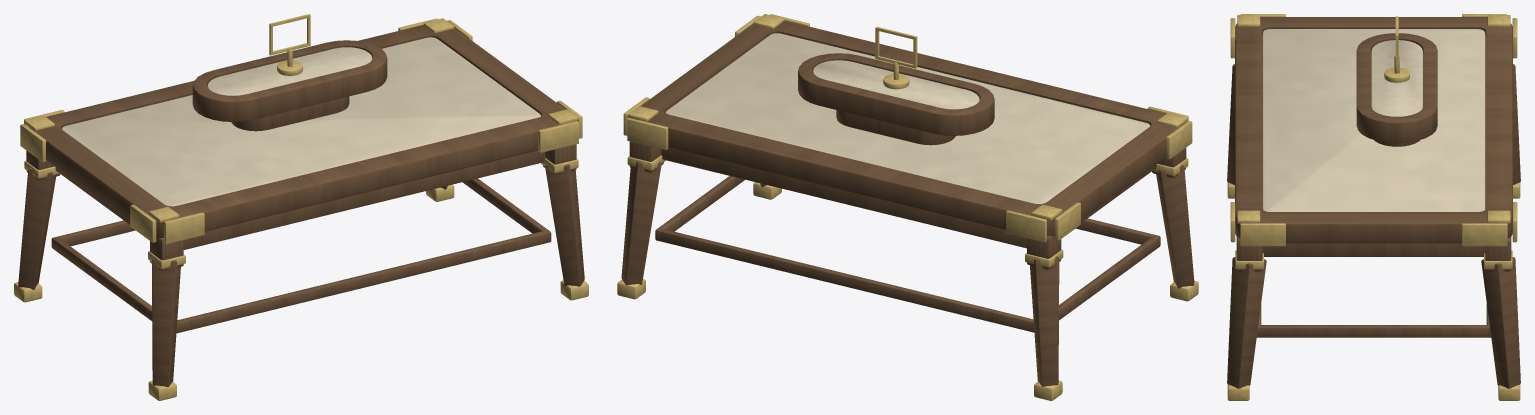
Rendered from coffee_table.glb.
3 views of the same model, side by side, from view 1: azimuth 30°, elevation 25°; view 2: azimuth 150°, elevation 25°; view 3: azimuth 270°, elevation 25° (orthographic).
Parts seen in each view (by area): view 1: coffee_table_body; view 2: coffee_table_body; view 3: coffee_table_body.
Part boxes in pixels (bbox=[...]): coffee_table_body: bbox=[14, 14, 588, 400]; coffee_table_body: bbox=[617, 14, 1198, 400]; coffee_table_body: bbox=[1227, 14, 1520, 400].
Size of what is drawn, in the model's own units: 1.08 by 0.643 by 0.6339.
3 materials, 3 textured.
